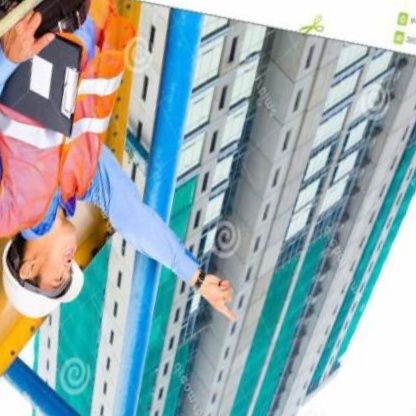vest: (0, 0, 141, 263)
white: (0, 232, 94, 328)
